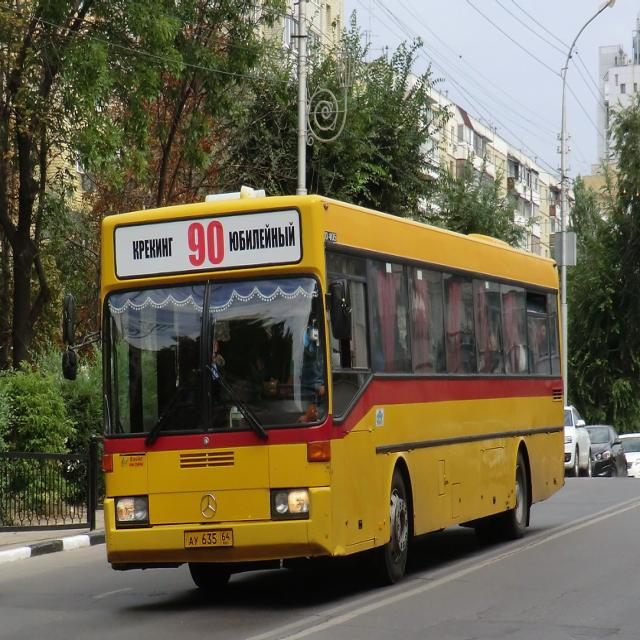number-of-bus: (185, 218, 227, 272)
